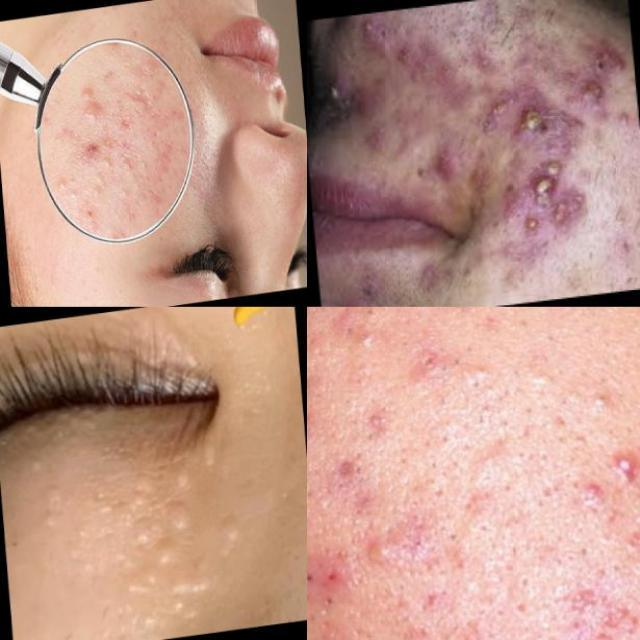Pimples: (104, 566, 223, 640), (495, 166, 594, 249), (90, 486, 166, 572), (498, 98, 591, 162), (401, 134, 473, 192), (584, 18, 624, 122), (572, 372, 640, 417), (353, 532, 408, 579), (345, 14, 393, 56), (607, 435, 640, 487), (216, 510, 246, 562), (165, 494, 196, 540), (150, 535, 184, 574), (342, 306, 394, 326), (124, 73, 150, 107), (74, 78, 98, 104), (118, 138, 134, 172), (78, 138, 99, 158)
